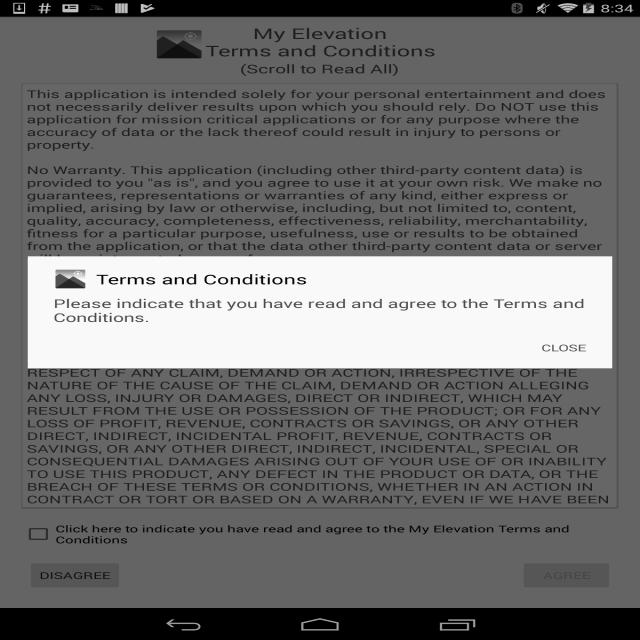Button: (25, 557, 128, 591), (518, 558, 616, 590)
CheckBox: (18, 521, 51, 543)
ImageView: (154, 28, 203, 61)
TextView: (25, 368, 612, 505), (29, 162, 608, 255), (25, 87, 605, 150), (49, 293, 592, 326), (54, 521, 577, 549), (214, 29, 436, 77), (539, 336, 592, 356)
